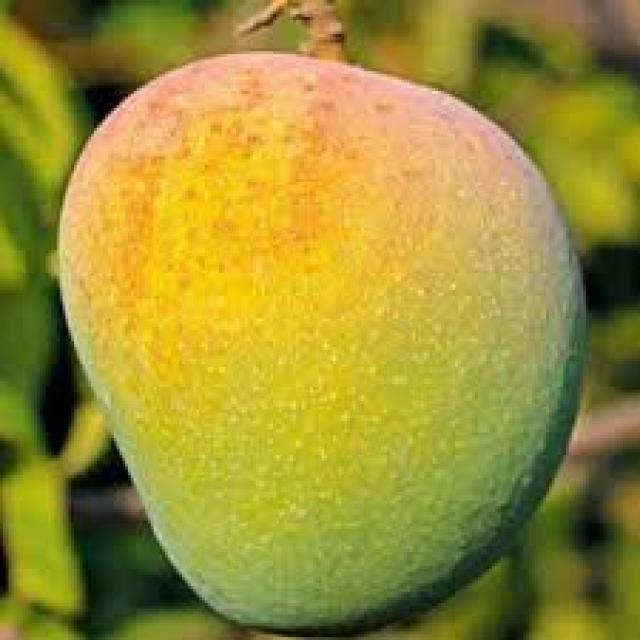Mango: (64, 51, 586, 637)
